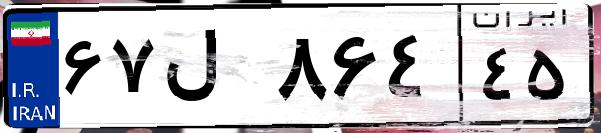4: (385, 28, 445, 110), (475, 38, 525, 113)
5: (525, 38, 570, 115)
6: (330, 28, 385, 110), (57, 26, 110, 100)
7: (110, 28, 158, 98)
8: (270, 28, 330, 110)
ل: (158, 20, 270, 120)
